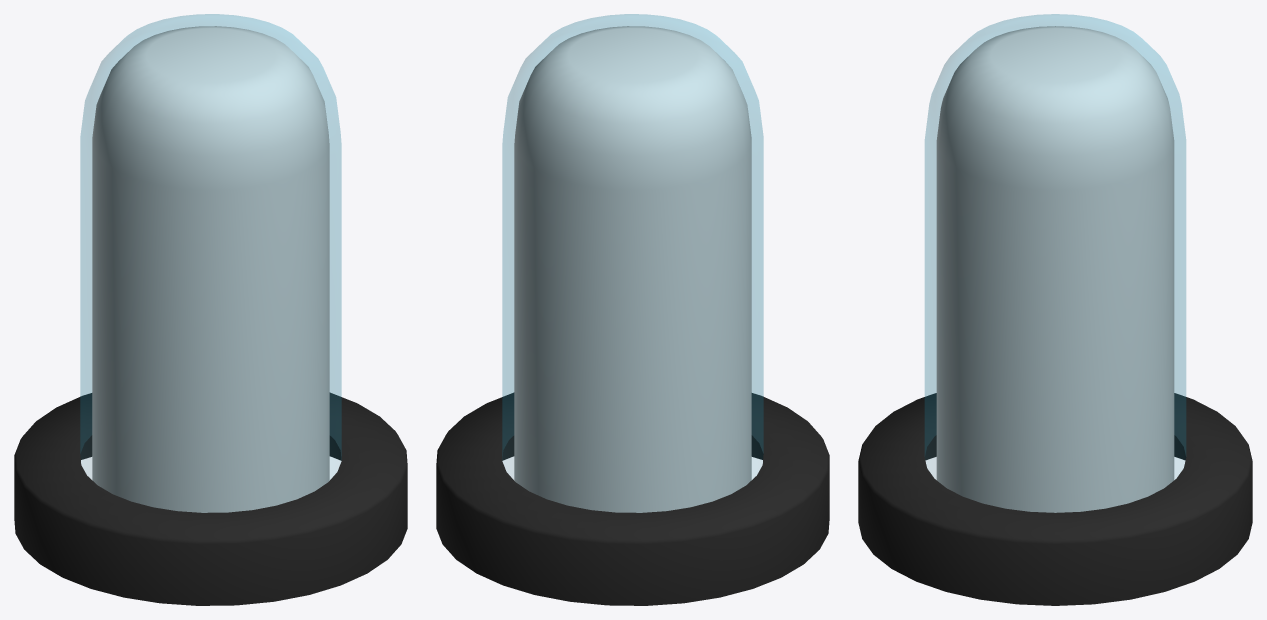
The model's file is tank.glb.
The picture shows the model from 3 angles, left to right: view 1: azimuth 30°, elevation 25°; view 2: azimuth 150°, elevation 25°; view 3: azimuth 270°, elevation 25°; orthographic projection.
Parts seen in each view (by area): view 1: outside, intern, base; view 2: outside, intern, base; view 3: outside, intern, base.
Boxes of the visible parts, x1,y1,x2,y2 form: outside: [80, 14, 341, 512]; intern: [92, 26, 329, 512]; base: [14, 392, 407, 605]; outside: [502, 14, 763, 512]; intern: [514, 26, 751, 512]; base: [436, 392, 829, 605]; outside: [925, 14, 1185, 512]; intern: [936, 26, 1174, 512]; base: [858, 393, 1252, 605].
Bounding box in the file's own units: 1.56 × 2.07 × 1.56.
